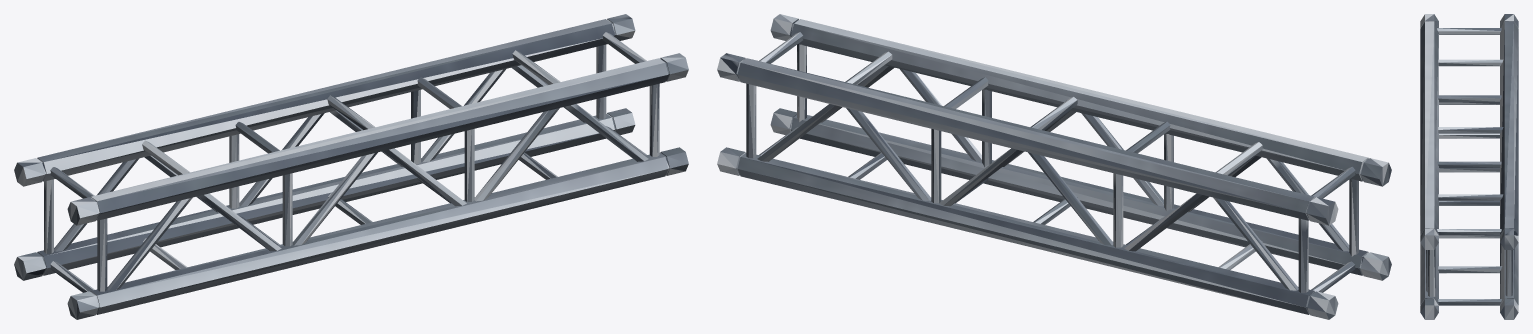
Rendered from metal_truss.glb.
3 renders of one model, left to right at view 1: azimuth 30°, elevation 25°; view 2: azimuth 150°, elevation 25°; view 3: azimuth 270°, elevation 25°, orthographic. The views are drawn at different scales.
Visible parts, largest first — view 1: metal_truss; view 2: metal_truss; view 3: metal_truss.
Boxes of the visible parts, box(x1,y1,x2,y2) form: metal_truss: box(14, 14, 688, 319); metal_truss: box(717, 14, 1391, 319); metal_truss: box(1420, 14, 1518, 319).
Size of the model in its own units: 4.6 by 0.8215 by 0.8631.
1 material, 1 textured.
